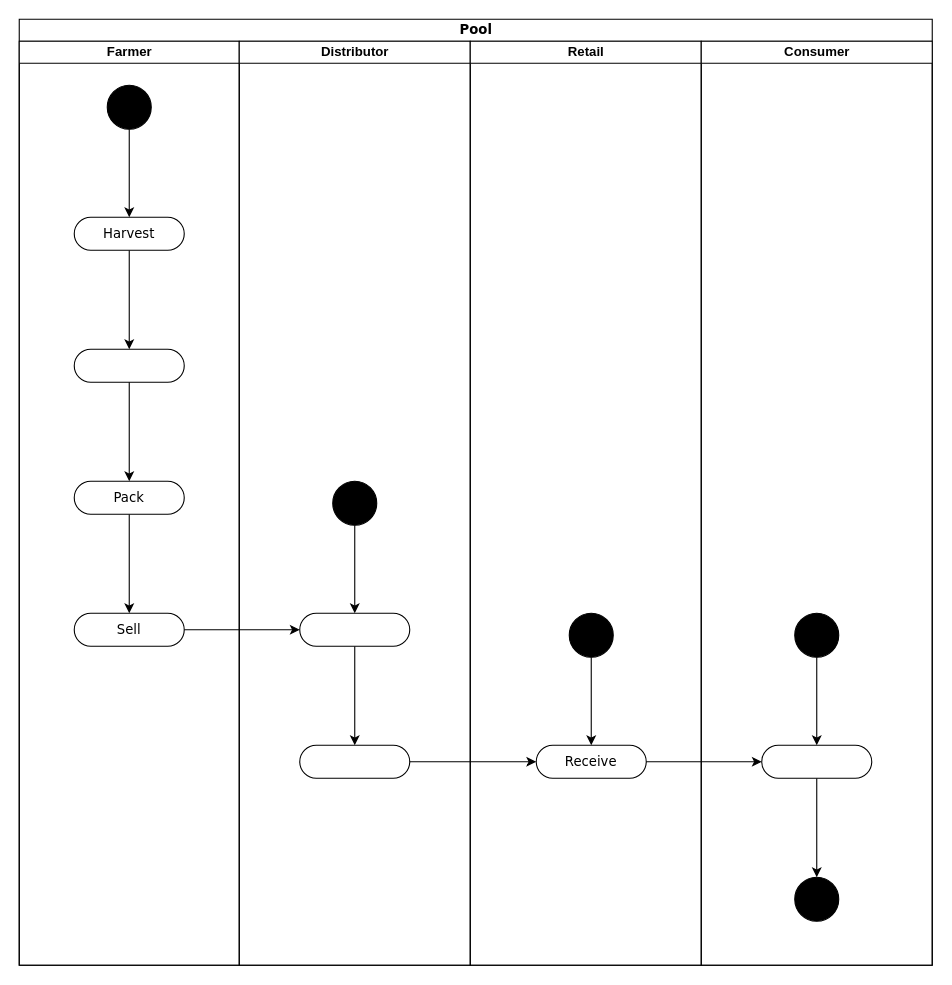
Some shapes in this 952 by 985 pixel diagram are drawn without their labels. Each missing label, with the centre of its shape:
"Buy" goes at point 354,629.
"Process" goes at point 128,365.
"Purchase" goes at point 816,761.
"Ship" goes at point 354,761.
